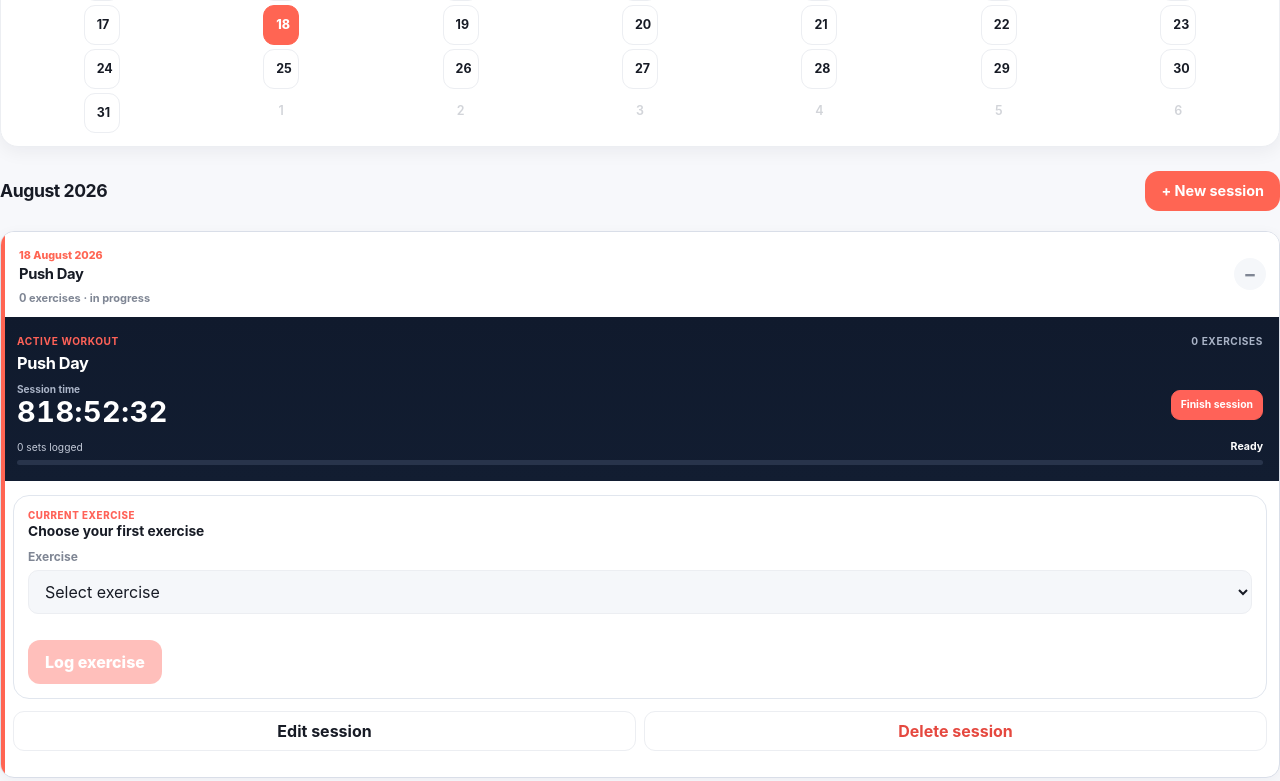
Scenario: WorkoutLogPage › reports a refused write and keeps the sets on screen
(page scrolled)
Select "Bench Press" in the dropdown labelled "Exercise" at (640, 592), box [28,570,1252,614]
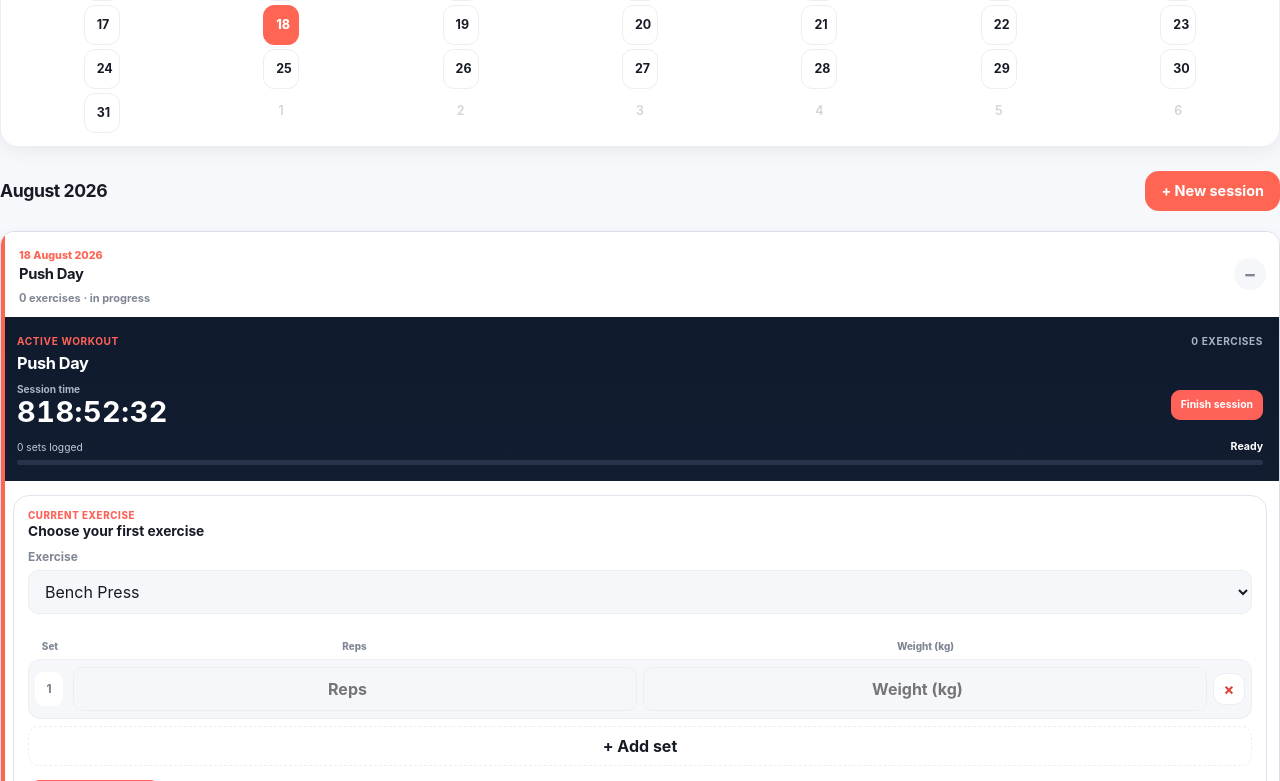
Type "8" into the number field with placeholder "Reps" at (355, 689), box [73,667,637,711]
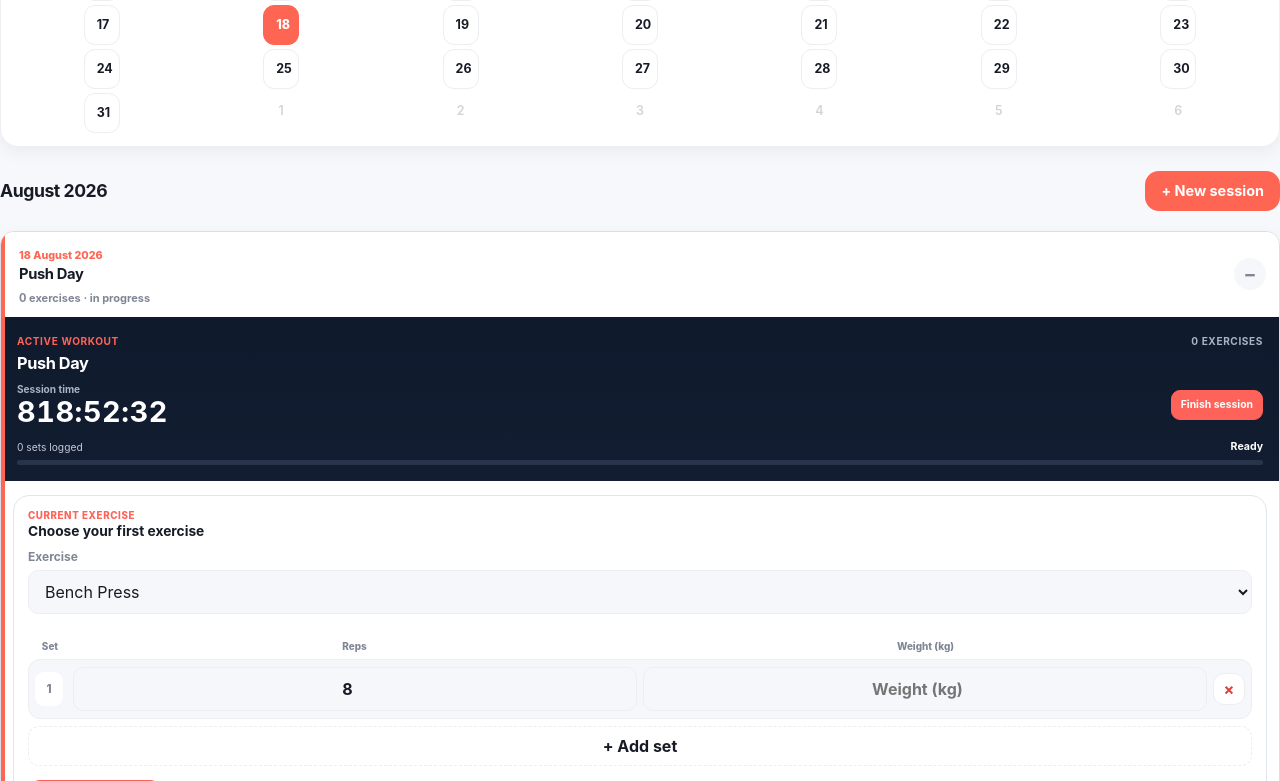
Type "60" into the number field with placeholder "Weight (kg)" at (925, 689), box [643,667,1207,711]
(page scrolled)
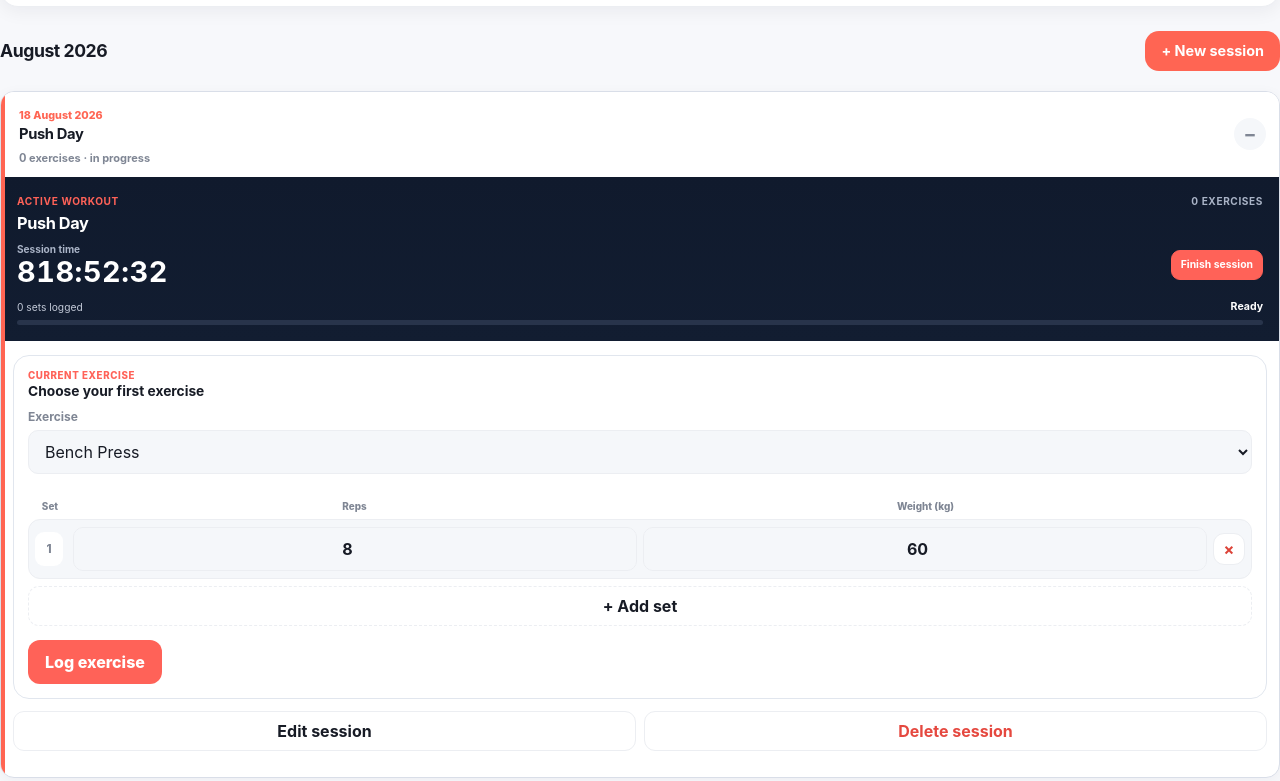
Click the button "Log exercise" at (95, 662), box [28,640,162,684]
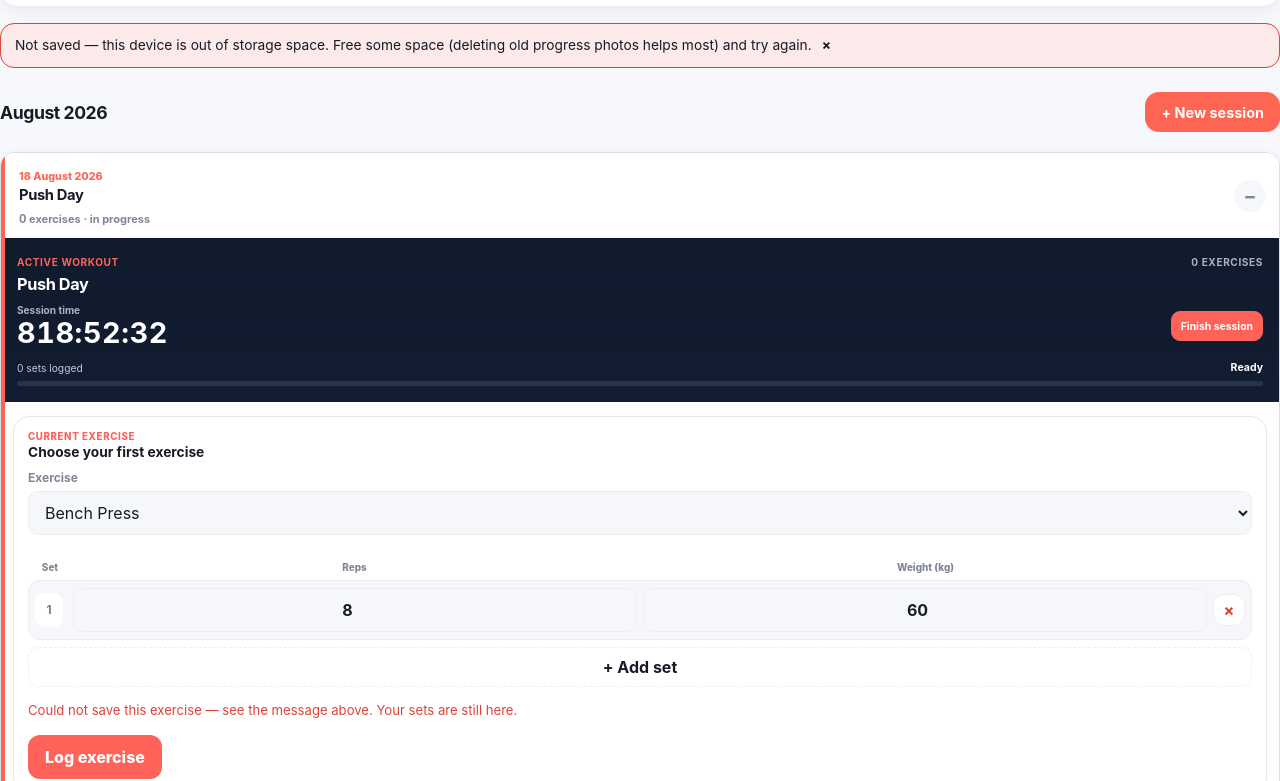
Check: the text "out of storage space" is shown, box [15,37,812,53]
